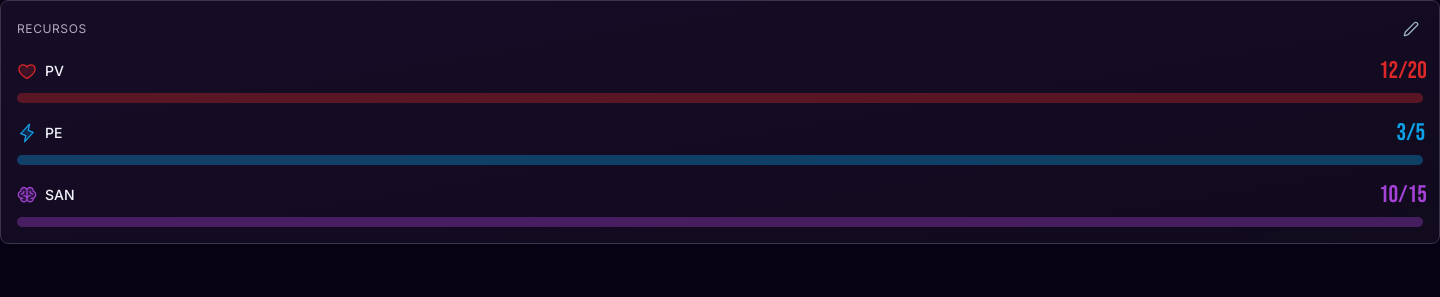
it: Confirmação de recursos: card mobile › não fecha nem apaga a edição quando servidor retorna false
This screenshot has width=1440, height=297.
Click the button named "Editar recursos".
click(1411, 29)  # box [1399, 17, 1423, 41]
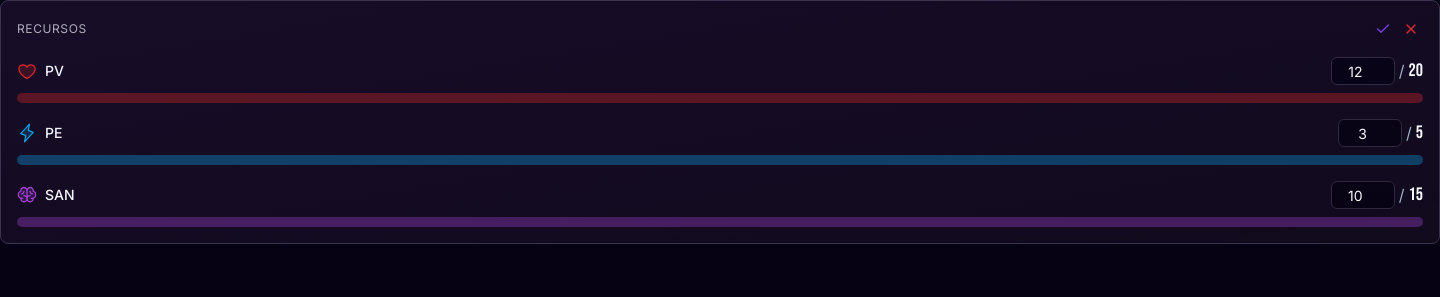
Replace the text in the number field named "PE atual" with "2" at (1370, 133), box [1338, 119, 1402, 147]
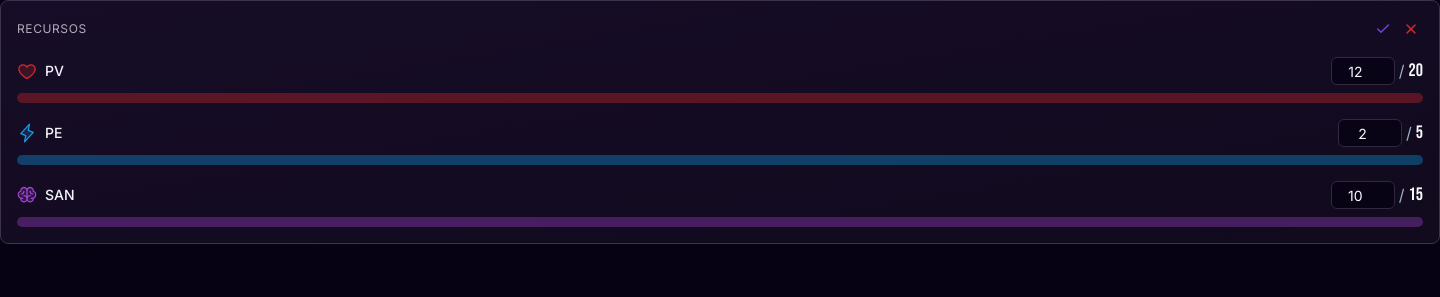
Click the button named "Salvar recursos".
click(1383, 29)  # box [1371, 17, 1395, 41]
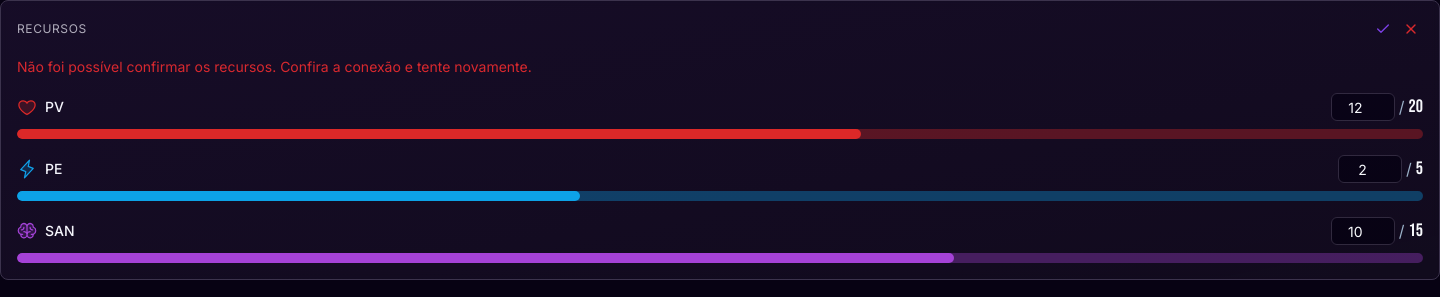
Expected: the message shows "Não foi possível confirmar", [17, 58, 532, 75]
